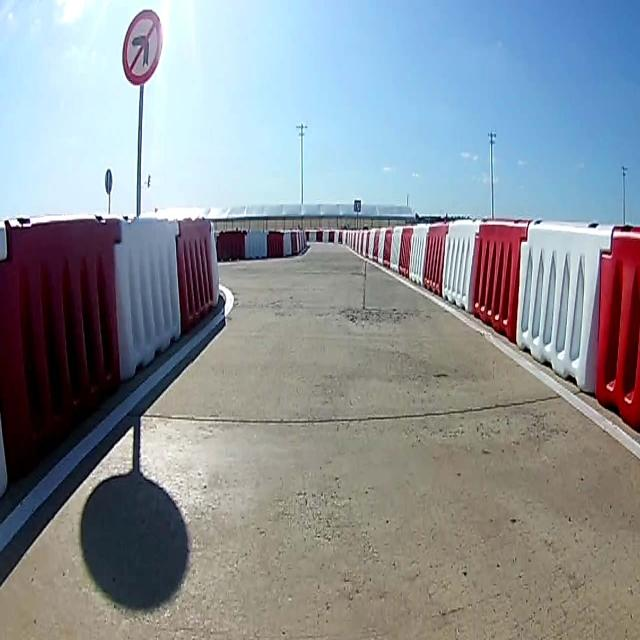soladonulmez: (122, 12, 164, 83)
